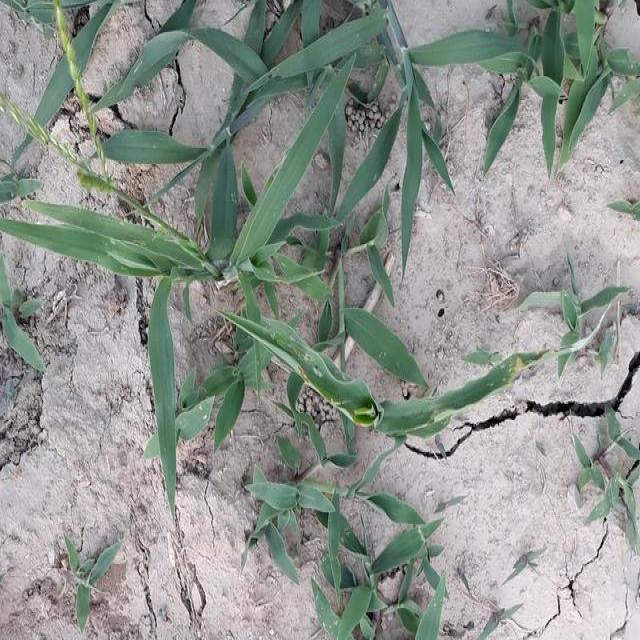weed: (71, 0, 418, 493)
